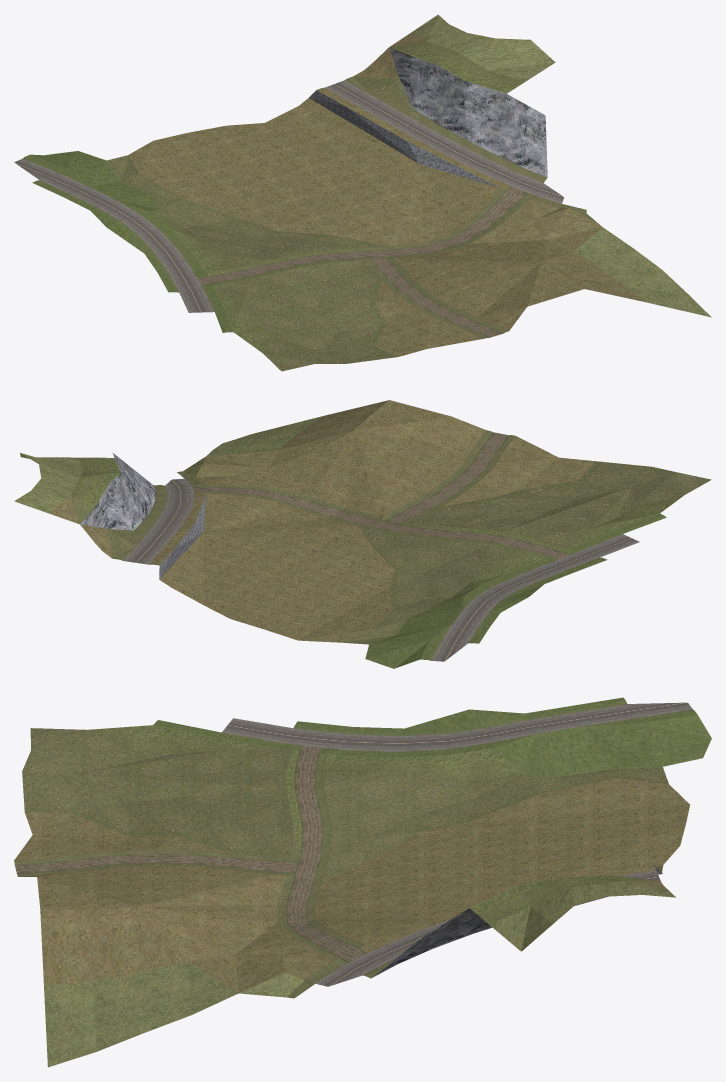
Rendered from nw_lodbit_14.obj.
The picture shows the model from 3 angles, top to bottom: view 1: azimuth 30°, elevation 25°; view 2: azimuth 150°, elevation 25°; view 3: azimuth 270°, elevation 25°; orthographic projection. The views are drawn at different scales.
Visible parts, largest first — view 1: nw_lodbit_14; view 2: nw_lodbit_14; view 3: nw_lodbit_14.
Boxes of the visible parts, box(x1,y1,x2,y2) form: nw_lodbit_14: box(14, 14, 711, 371); nw_lodbit_14: box(14, 400, 711, 668); nw_lodbit_14: box(14, 697, 711, 1067).
Size of the model in its own units: 253 by 63.42 by 253.
Materials: 13 (13 with a texture image).
